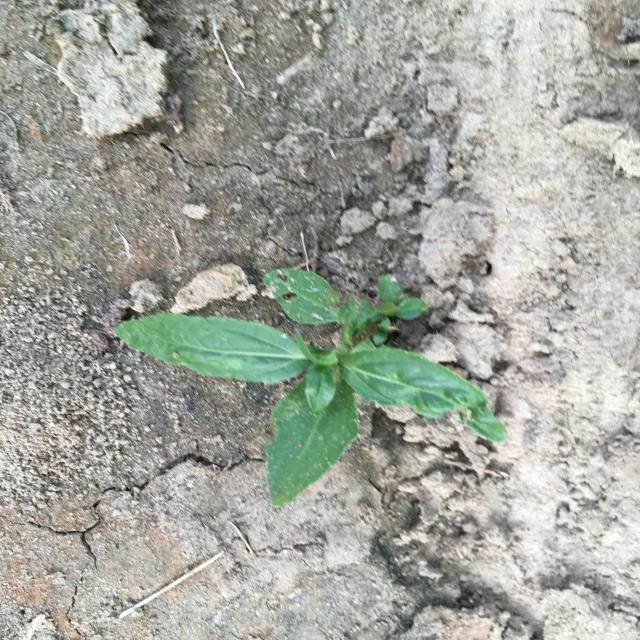Eclipta: (115, 268, 508, 508)
